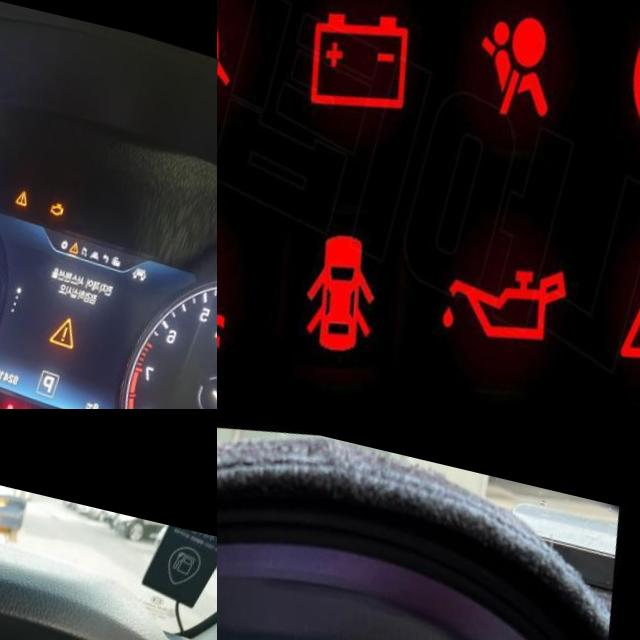Central Warning lamp: (64, 296, 98, 335), (25, 176, 41, 193)
Doors: (313, 209, 419, 348), (23, 388, 37, 407)
Engine cooling system: (217, 210, 274, 359)
